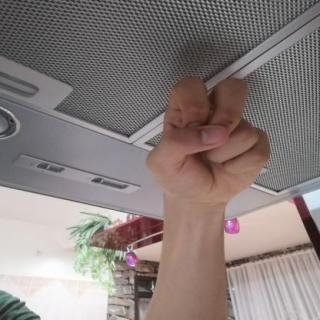QAAF: (136, 69, 276, 213)
